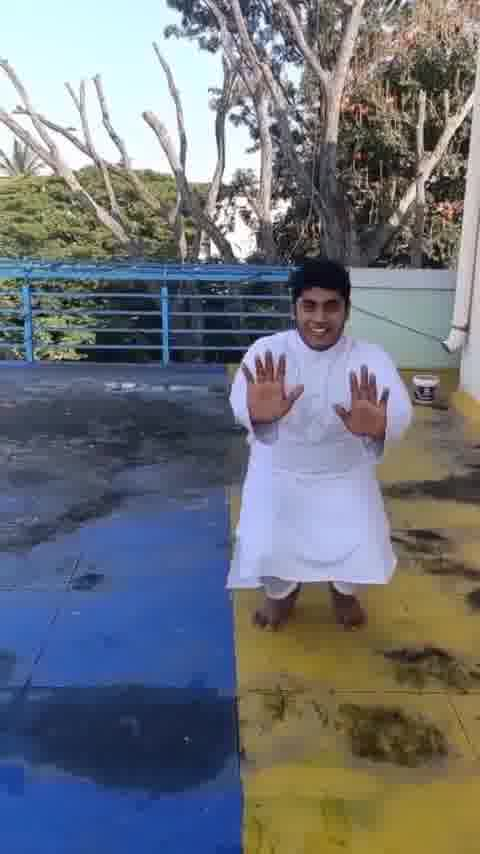duck: (220, 248, 429, 640)
